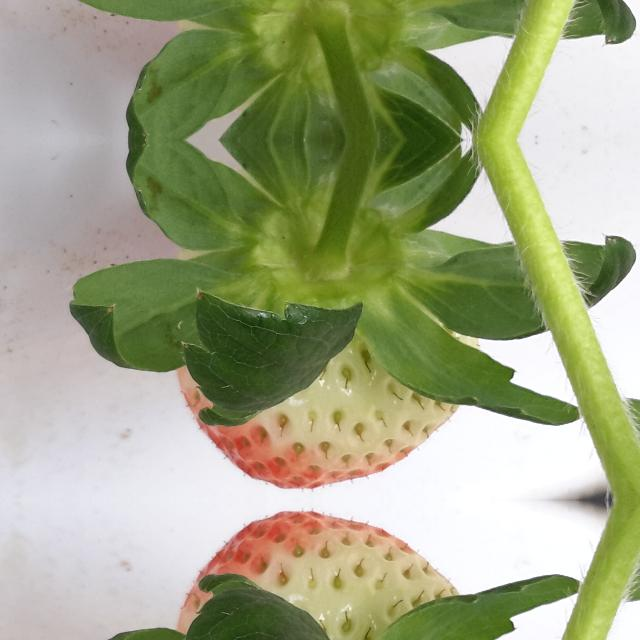Health_50: (176, 332, 480, 492), (176, 507, 480, 640)
